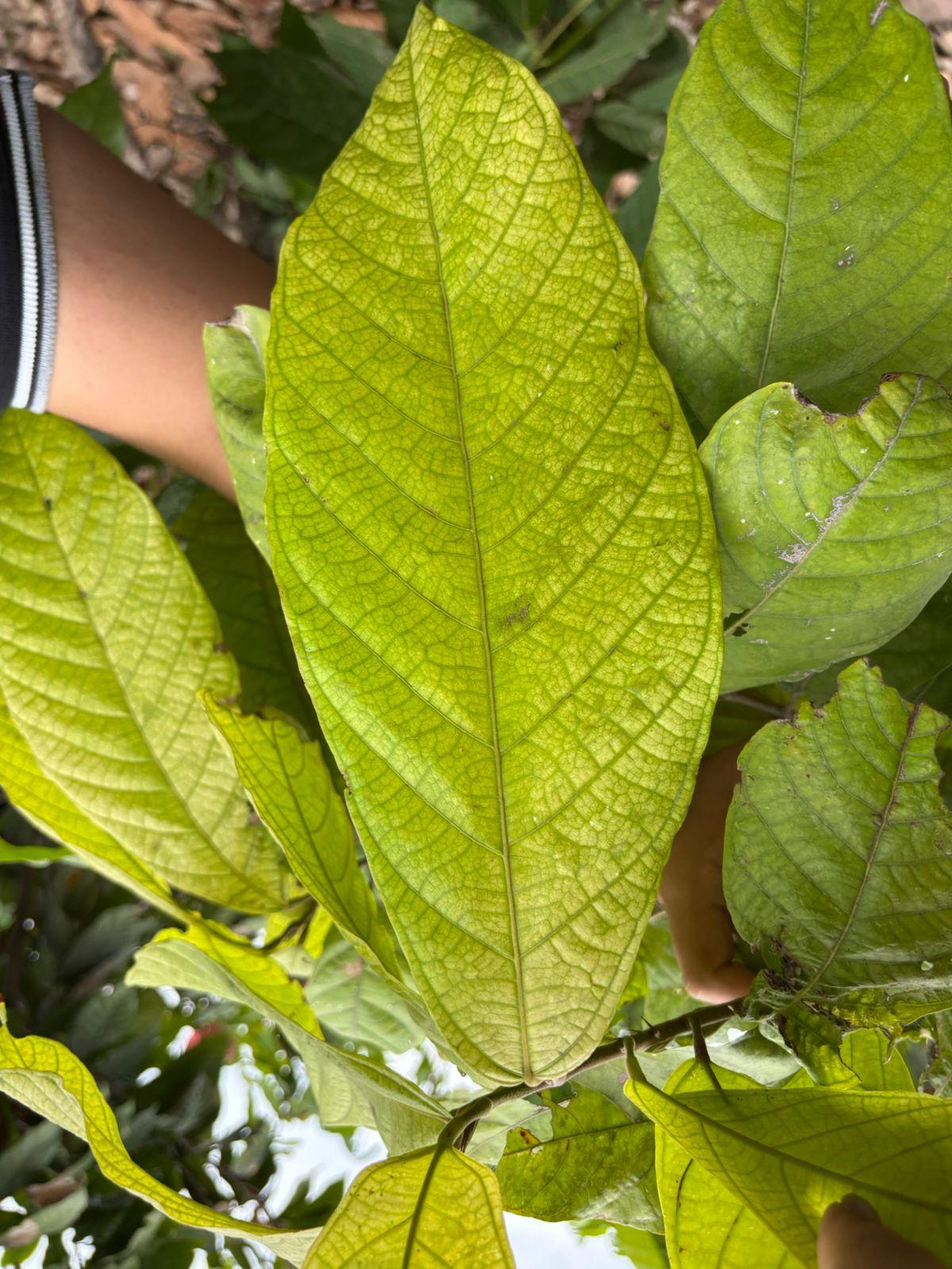Nitrogeno: (263, 10, 721, 1083), (1, 411, 286, 912)
